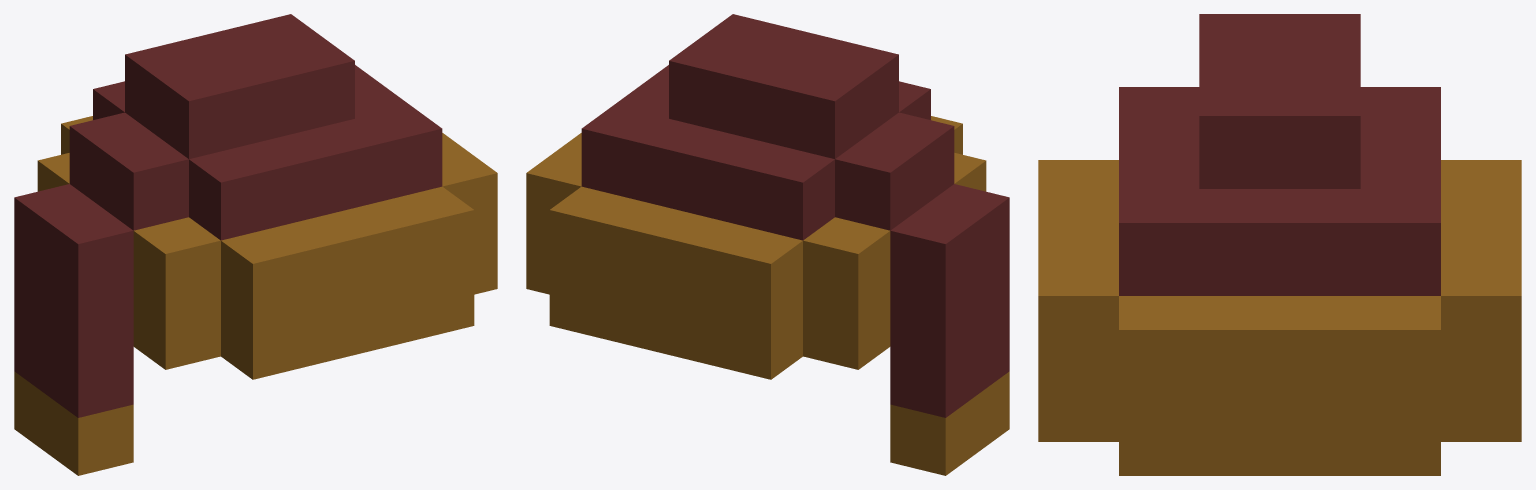
The model's file is character-217-helm_lgt_3c_ja_color.obj.
3 renders of one model, left to right at view 1: azimuth 30°, elevation 25°; view 2: azimuth 150°, elevation 25°; view 3: azimuth 270°, elevation 25°, orthographic. The views are drawn at different scales.
Visible parts, largest first — view 1: helm_lgt_3c_ja_color; view 2: helm_lgt_3c_ja_color; view 3: helm_lgt_3c_ja_color.
Part boxes in pixels (x1,y1,x2,y2): helm_lgt_3c_ja_color: (14,14,497,475); helm_lgt_3c_ja_color: (526,14,1009,475); helm_lgt_3c_ja_color: (1038,14,1521,475).
Size of the model in its own units: 0.7 by 0.6 by 0.6.
Materials: 1 (1 with a texture image).
